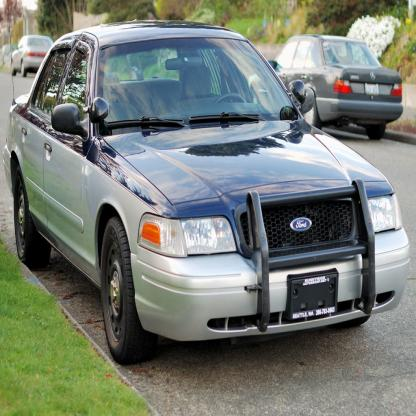Car: (4, 1, 411, 366), (250, 36, 404, 140), (12, 35, 54, 78)
